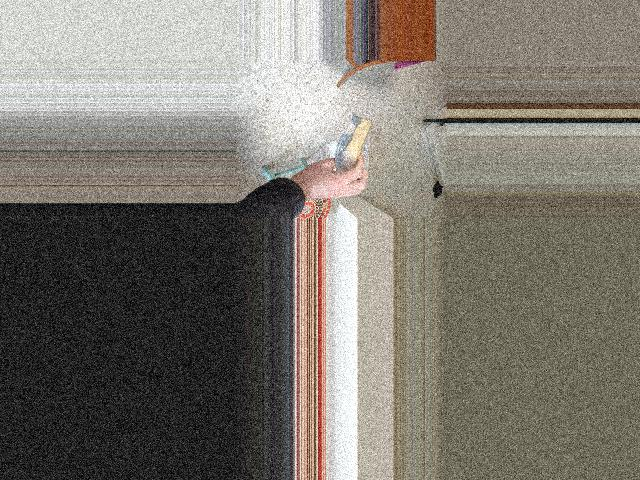cheese: (332, 109, 371, 197)
